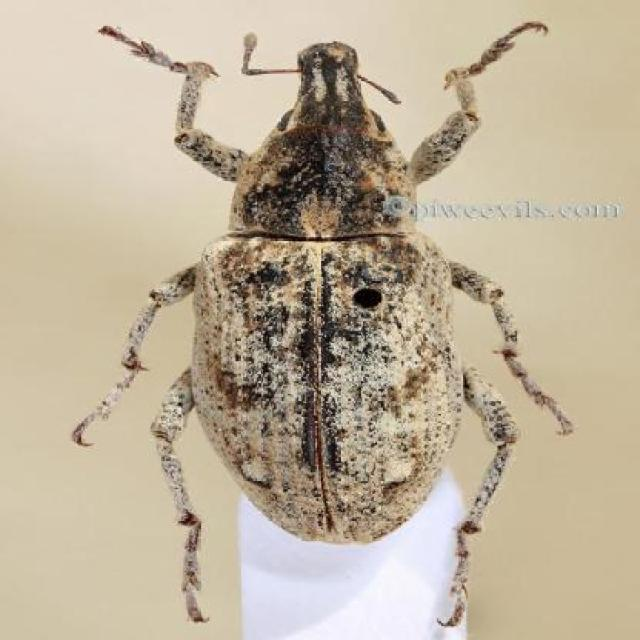rice-bug: (136, 34, 536, 568)
